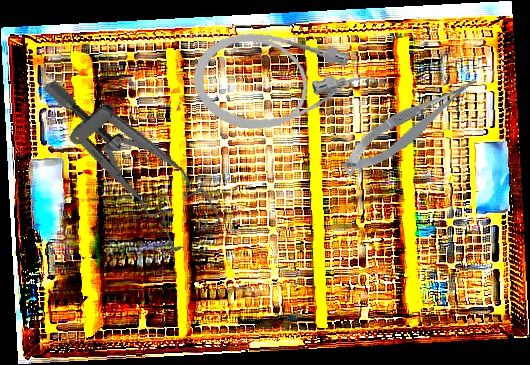Cannula: (188, 27, 380, 142)
Micro Scissor: (332, 71, 489, 181)
Speculum: (40, 42, 225, 270)
